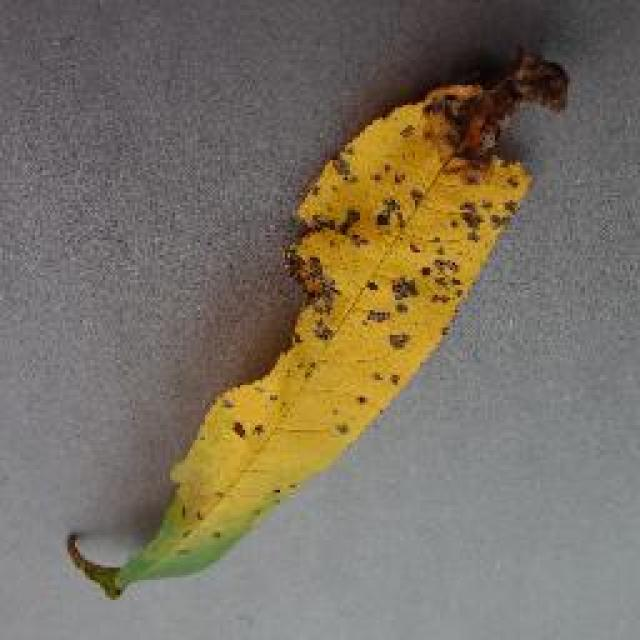Peach_Bacterial_Spot: (248, 87, 562, 375)
